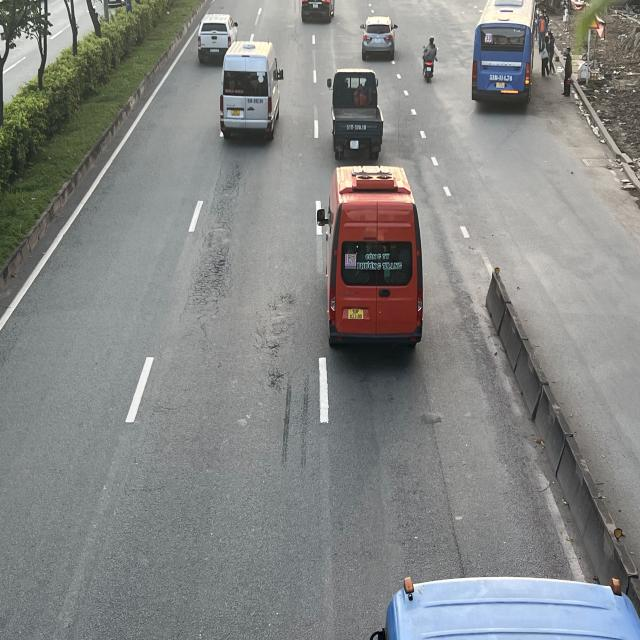car: (198, 14, 238, 61), (359, 14, 398, 56)
coach: (472, 2, 536, 107)
truck: (328, 68, 383, 154)
van: (324, 166, 431, 348), (221, 40, 285, 138)
